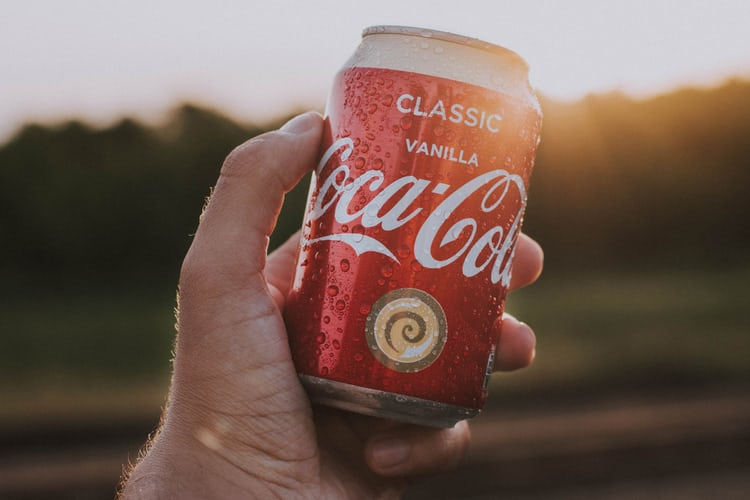can: (285, 21, 551, 438)
